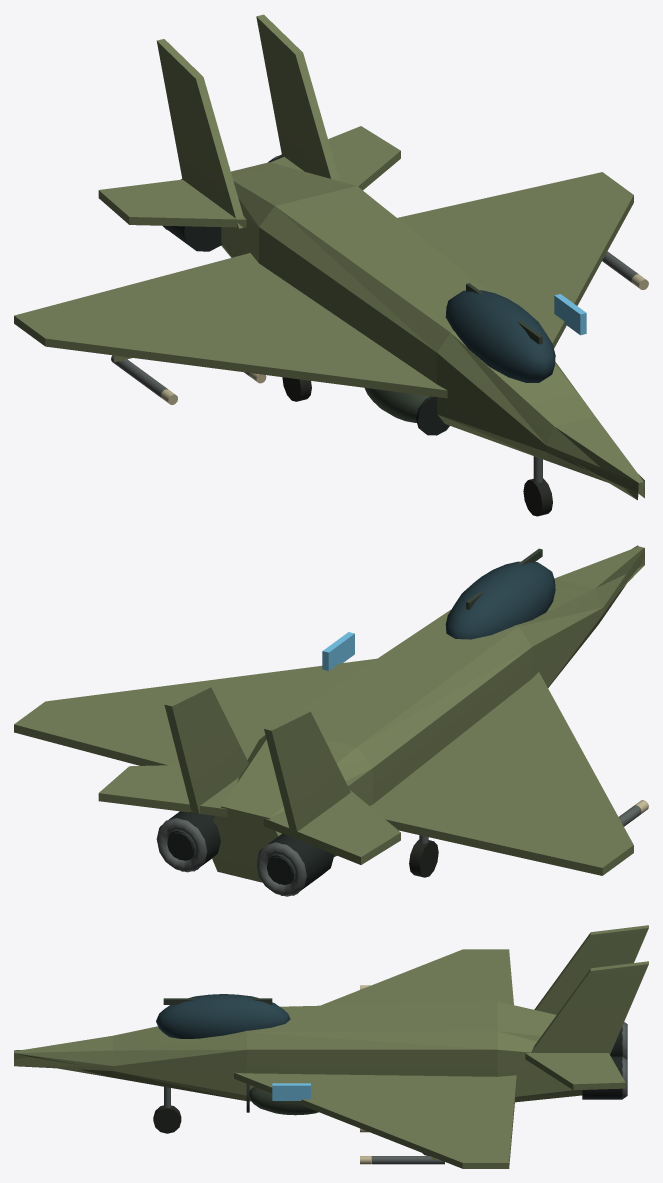
The model's file is ecm.glb.
3 renders of one model, top to bottom at view 1: azimuth 30°, elevation 25°; view 2: azimuth 150°, elevation 25°; view 3: azimuth 270°, elevation 25°, orthographic. The views are drawn at different scales.
Visible parts, largest first — view 1: armor, equipment (×2), glass, marking; view 2: armor, equipment (×2), glass, marking; view 3: armor, glass, equipment (×2), marking.
Part boxes in pixels (bbox=[...]): armor: bbox=[14, 14, 644, 500]; equipment (×2): bbox=[111, 154, 648, 516]; glass: bbox=[445, 290, 555, 382]; marking: bbox=[554, 294, 586, 335]; armor: bbox=[14, 545, 644, 882]; equipment (×2): bbox=[156, 548, 648, 896]; glass: bbox=[445, 561, 555, 639]; marking: bbox=[322, 632, 354, 670]; armor: bbox=[14, 925, 648, 1168]; glass: bbox=[156, 994, 290, 1038]; equipment (×2): bbox=[153, 985, 627, 1164]; marking: bbox=[272, 1083, 310, 1100].
Size of the model in its own units: 6.5 by 2.64 by 8.17.
